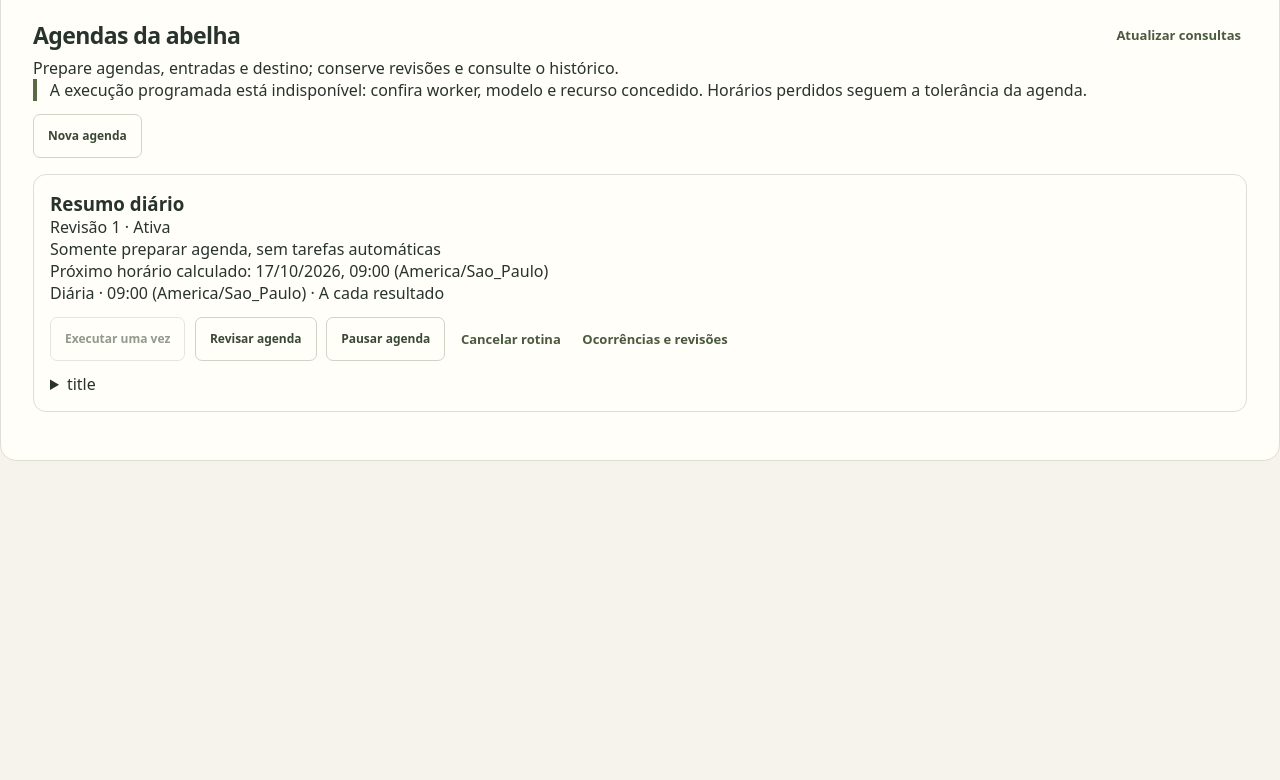
Test: routine uncertainty safety › treats an invalid successful response as uncertain rather than allowing a new intent
Click the button "Pausar agenda": [386, 339] box x1=326 y1=317 x2=445 y2=361
(page scrolled)
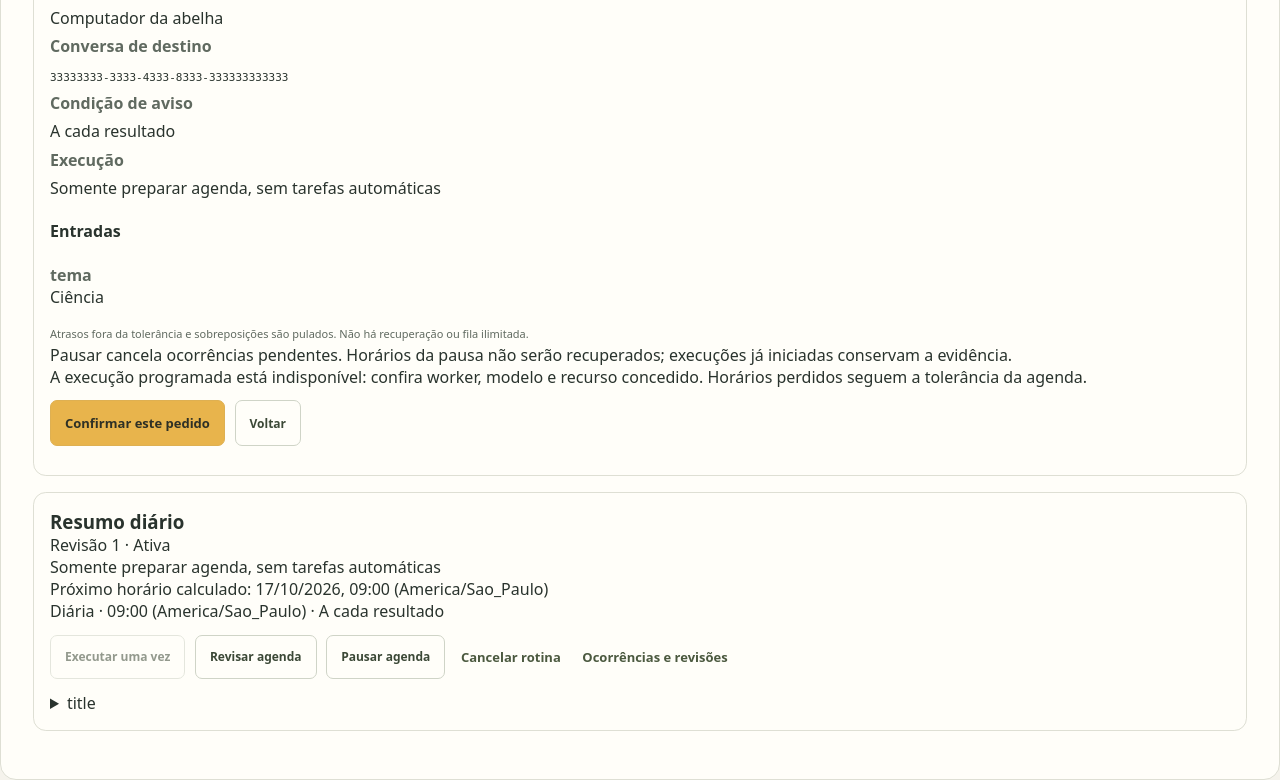
Click the button "Confirmar este pedido": [137, 423] box x1=50 y1=400 x2=225 y2=446
(page scrolled)
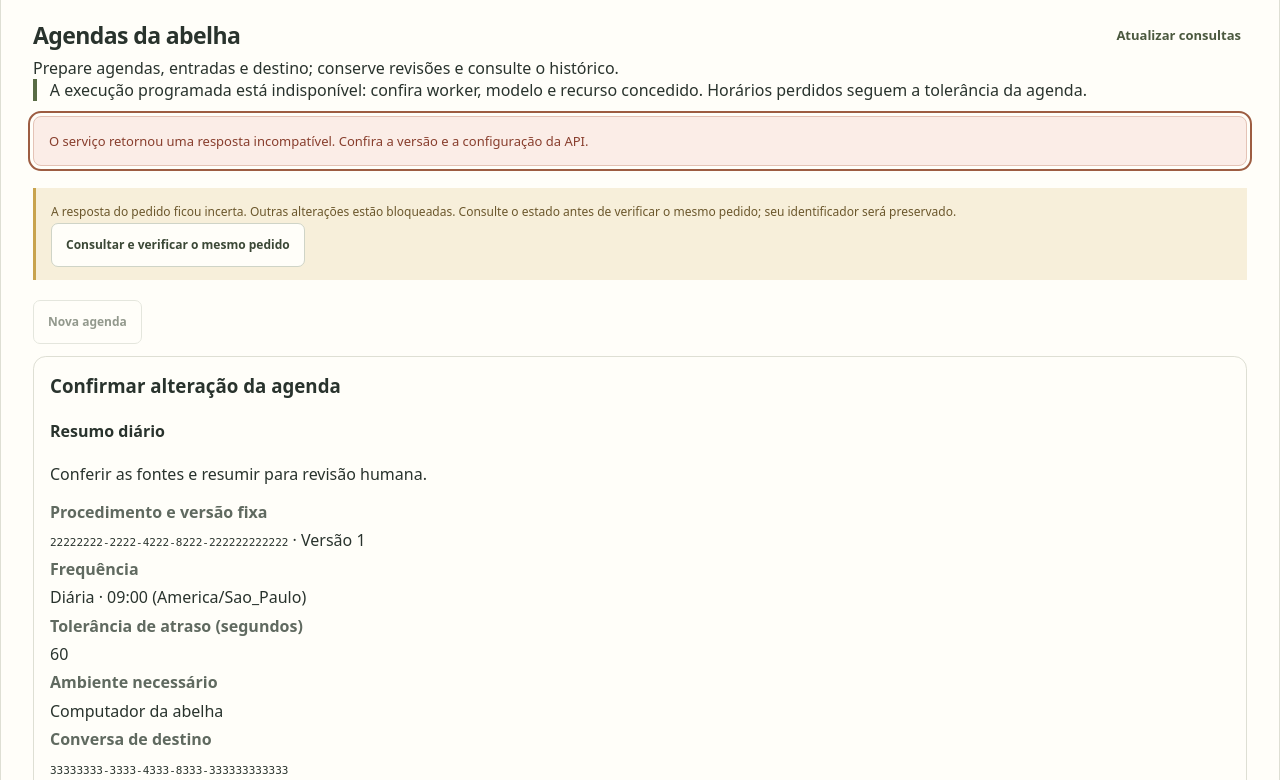
Check: the button "Nova agenda" is disabled, box x1=33 y1=300 x2=142 y2=344
Check: the text "A resposta do pedido ficou incerta" is shown, box x1=51 y1=203 x2=956 y2=220
